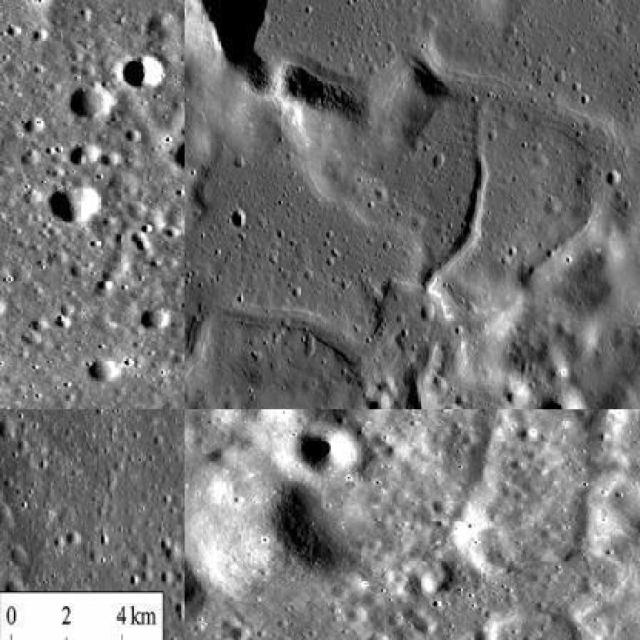rille: (184, 101, 490, 408), (330, 410, 638, 638), (48, 410, 183, 556)
